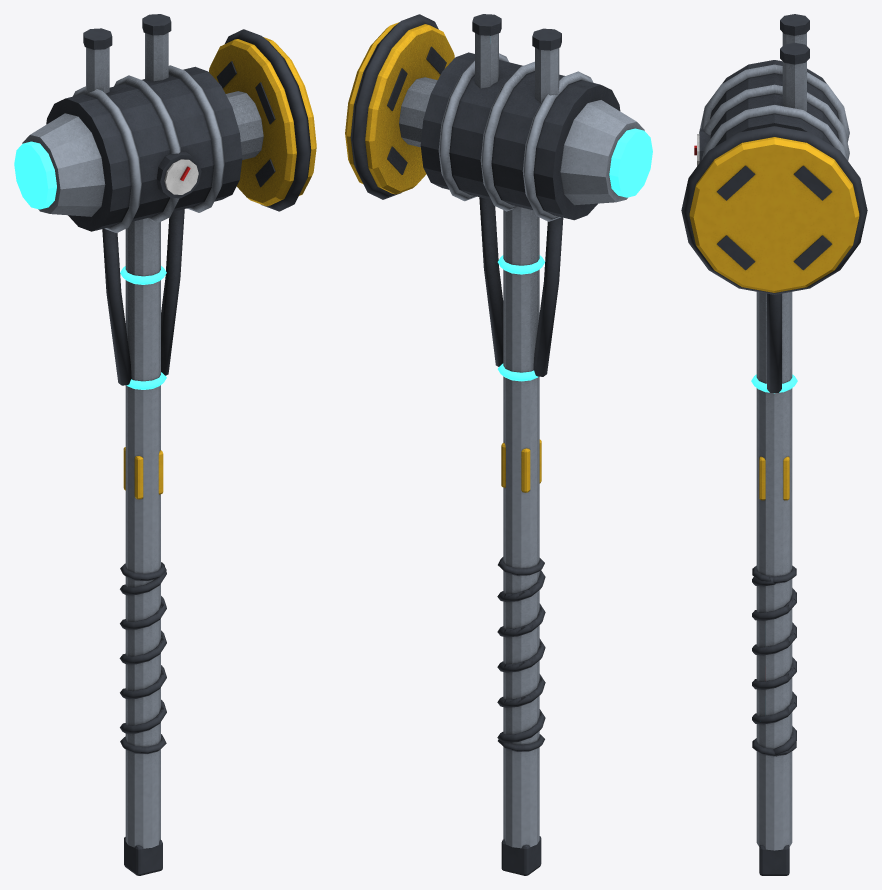
The model's file is 11_mechanical_heavy.fbx.
3 renders of one model, left to right at view 1: azimuth 30°, elevation 25°; view 2: azimuth 150°, elevation 25°; view 3: azimuth 270°, elevation 25°, orthographic. The views are drawn at different scales.
Visible parts, largest first — view 1: Weapon; view 2: Weapon; view 3: Weapon.
Boxes of the visible parts, x1,y1,x2,y2 form: Weapon: (14, 14, 316, 875); Weapon: (345, 14, 652, 875); Weapon: (681, 14, 867, 875).
Bounding box in the file's own units: 43.16 × 140 × 28.36.
Materials: 2 (1 with a texture image).
